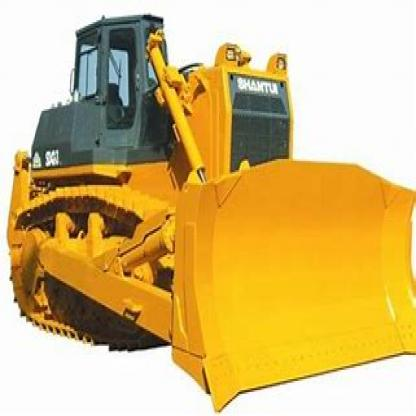bull_dozer/loader/grader: (7, 11, 414, 403)
